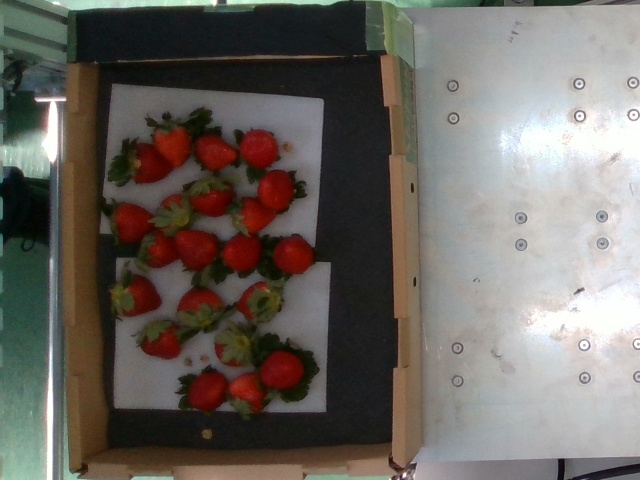strawberry: (108, 202, 156, 244), (129, 143, 178, 184), (177, 287, 220, 329), (117, 276, 161, 317), (140, 318, 182, 360), (260, 351, 303, 391), (176, 231, 217, 272), (198, 133, 238, 173), (190, 181, 233, 217), (155, 127, 194, 166), (223, 235, 262, 273), (239, 284, 277, 323), (215, 327, 254, 365), (189, 372, 226, 412), (273, 237, 313, 274), (258, 168, 293, 210), (240, 128, 276, 168), (228, 374, 265, 411), (143, 233, 182, 268), (157, 194, 191, 233)
